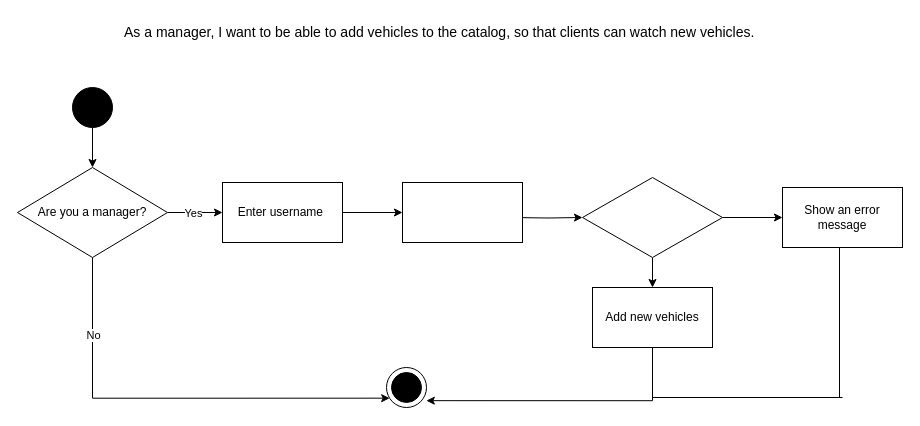
Some shapes in this 920 by 426 pixel diagram are drawn without their labels. The shapes that lost their labels are listed below. From the top down, each one's centre as x and y in pixels, then its label:
pixel 462 212: Enter password
pixel 652 217: Information is true?
